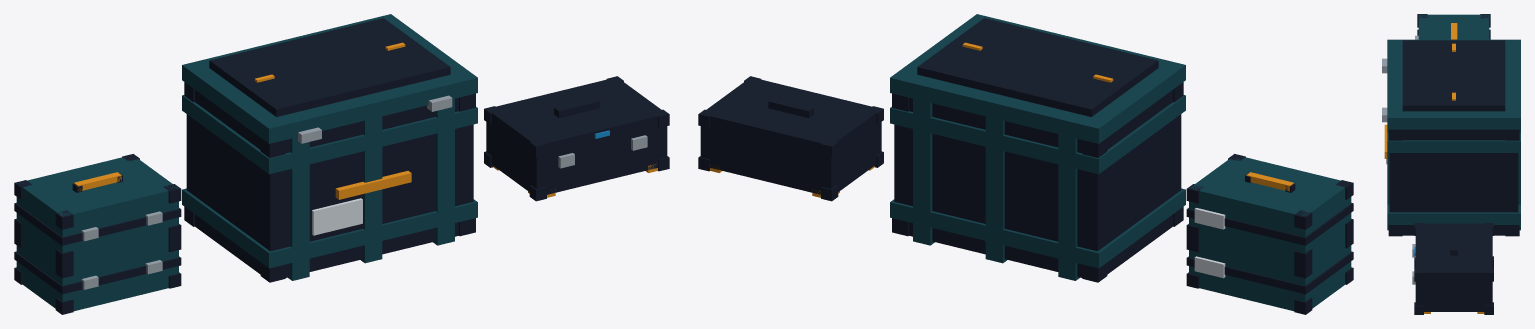
The picture shows the model from 3 angles, left to right: view 1: azimuth 30°, elevation 25°; view 2: azimuth 150°, elevation 25°; view 3: azimuth 270°, elevation 25°; orthographic projection. The views are drawn at different scales.
Parts seen in each view (by area): view 1: DL018_ResearchCrates_graphite_navy, DL018_ResearchCrates_teal_shell, DL018_ResearchCrates_titanium, DL018_ResearchCrates_amber_accent, DL018_ResearchCrates_hull_offwhite; view 2: DL018_ResearchCrates_graphite_navy, DL018_ResearchCrates_teal_shell, DL018_ResearchCrates_hull_offwhite, DL018_ResearchCrates_amber_accent; view 3: DL018_ResearchCrates_graphite_navy, DL018_ResearchCrates_teal_shell, DL018_ResearchCrates_amber_accent, DL018_ResearchCrates_titanium.
Boxes of the visible parts, bbox=[...] form: DL018_ResearchCrates_graphite_navy: bbox=[14, 18, 669, 314]; DL018_ResearchCrates_teal_shell: bbox=[16, 14, 477, 311]; DL018_ResearchCrates_titanium: bbox=[81, 95, 647, 289]; DL018_ResearchCrates_amber_accent: bbox=[74, 42, 657, 199]; DL018_ResearchCrates_hull_offwhite: bbox=[312, 198, 362, 235]; DL018_ResearchCrates_graphite_navy: bbox=[698, 18, 1353, 314]; DL018_ResearchCrates_teal_shell: bbox=[890, 14, 1351, 311]; DL018_ResearchCrates_hull_offwhite: bbox=[1194, 208, 1225, 278]; DL018_ResearchCrates_amber_accent: bbox=[710, 42, 1293, 197]; DL018_ResearchCrates_graphite_navy: bbox=[1388, 14, 1519, 314]; DL018_ResearchCrates_teal_shell: bbox=[1387, 14, 1520, 230]; DL018_ResearchCrates_amber_accent: bbox=[1384, 23, 1484, 313]; DL018_ResearchCrates_titanium: bbox=[1382, 35, 1418, 284].
Size of the model in its own units: 4.17 by 1.11 by 1.08.
